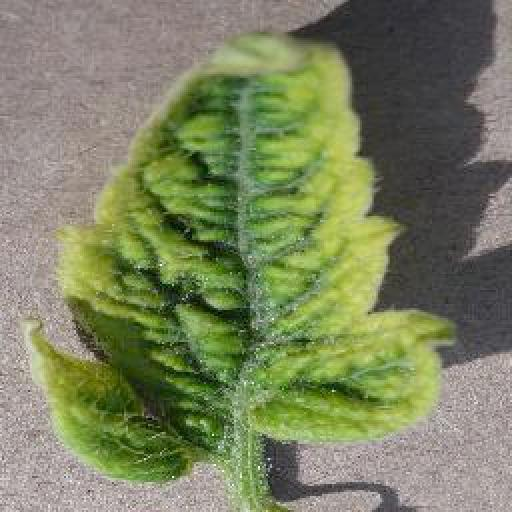disease_tomato: (22, 34, 460, 486)
